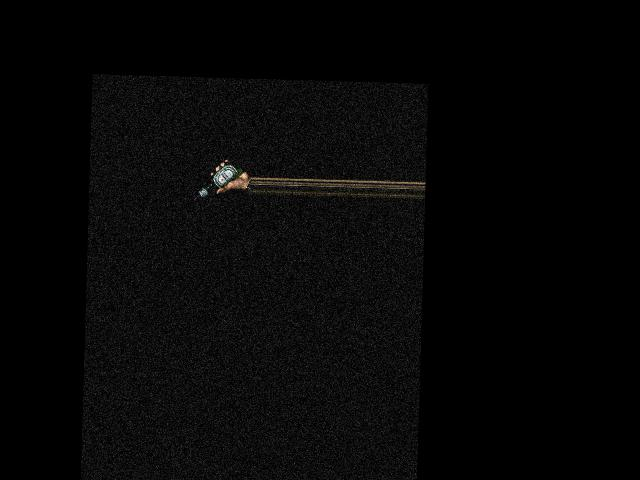beer: (192, 157, 245, 203)
